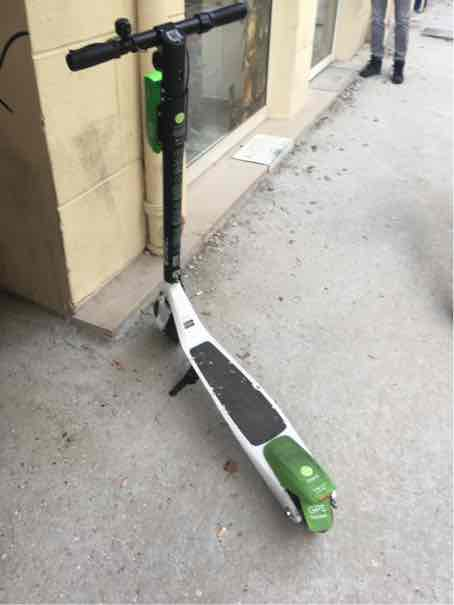scooter: (52, 1, 343, 539)
